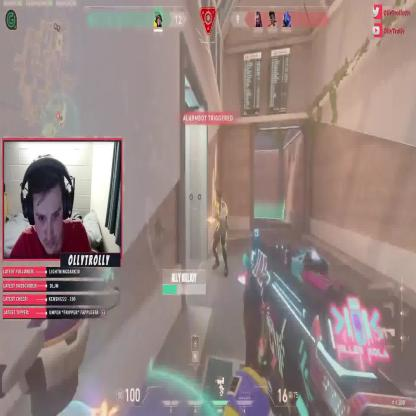enemy: (211, 192, 229, 278)
enemy_head: (216, 192, 222, 208)
